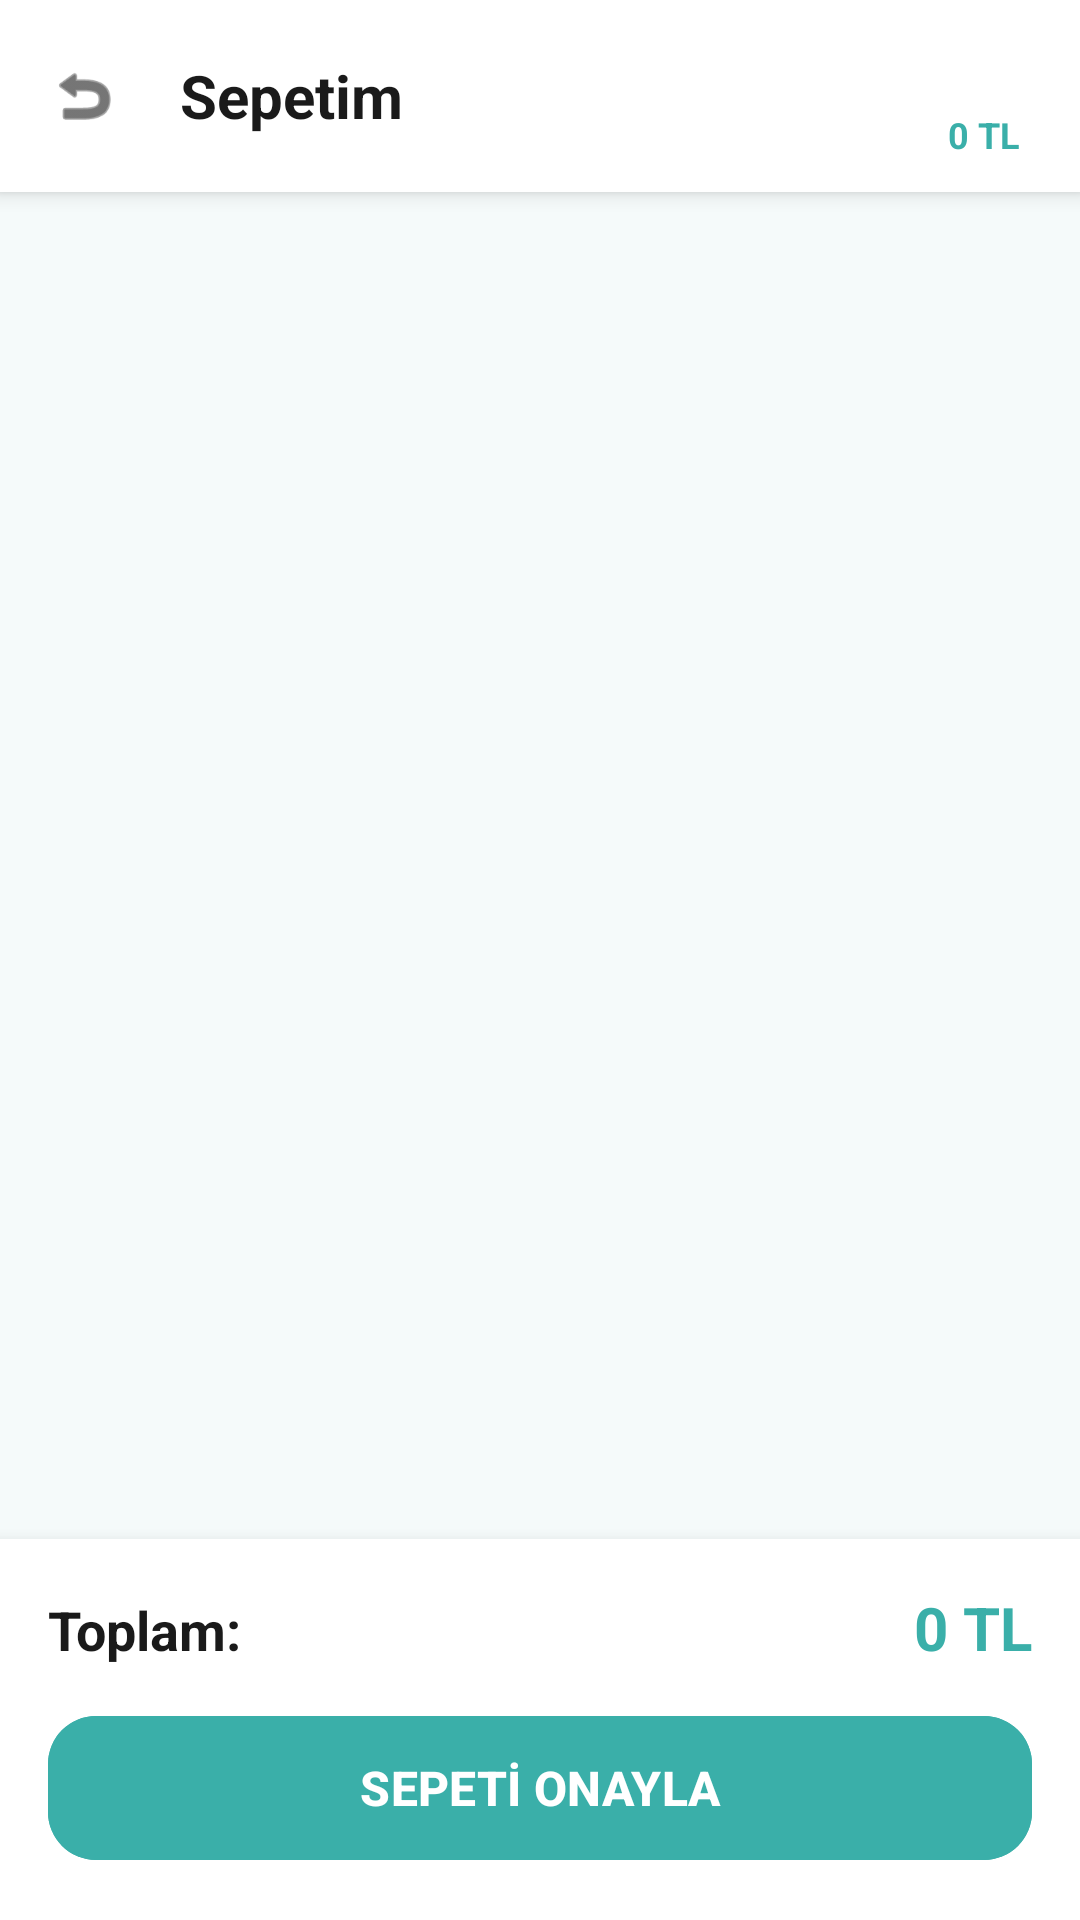

Icon click points for this 1080w x 1920h phone screenshot, format (x=x, y=y):
Geri: (x=85, y=96)
